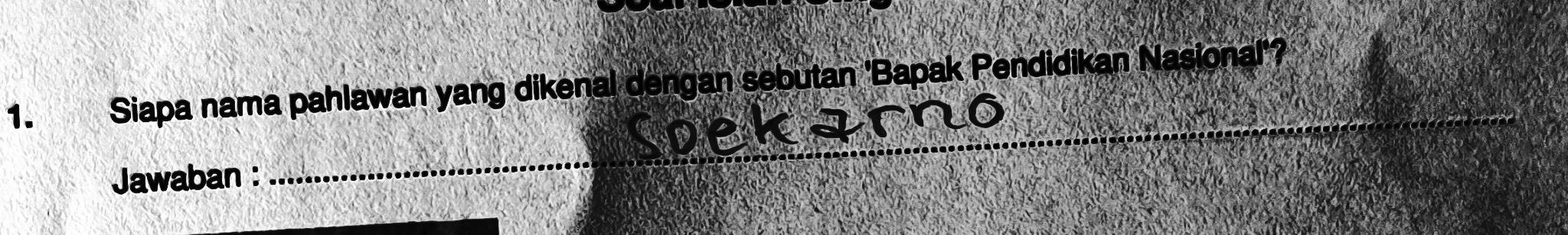jawaban: (619, 91, 1011, 164)
